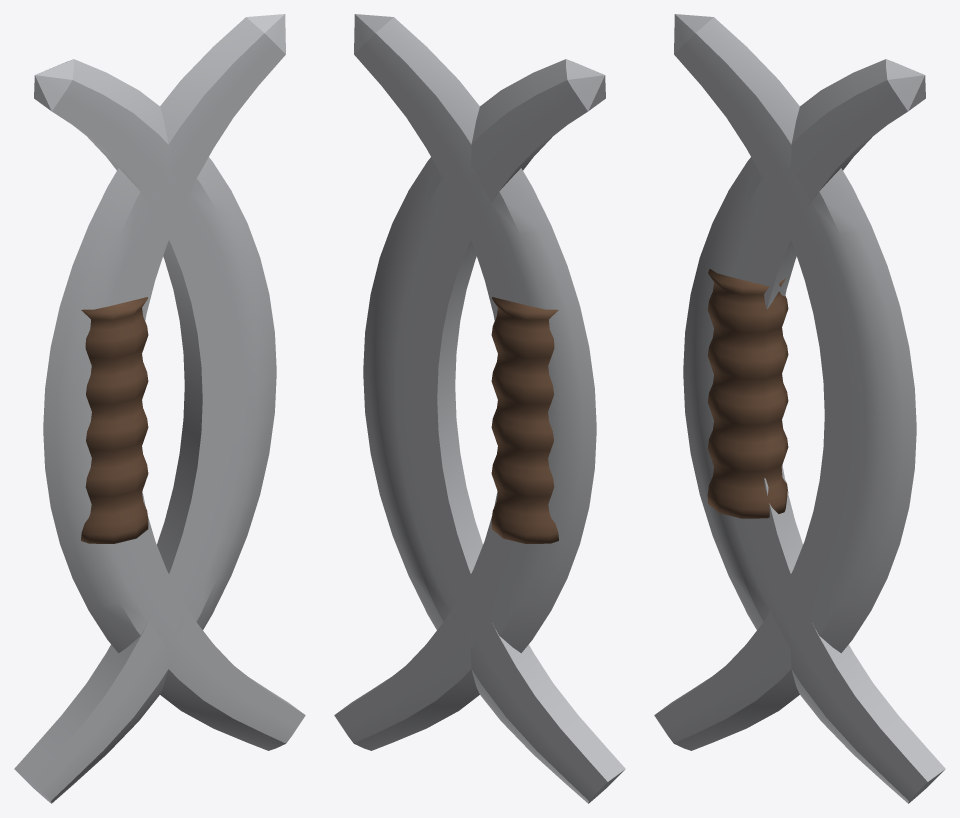
Rendered from deer-horn-knife.glb.
The picture shows the model from 3 angles, left to right: view 1: azimuth 30°, elevation 25°; view 2: azimuth 150°, elevation 25°; view 3: azimuth 330°, elevation 25°; orthographic projection.
Parts seen in each view (by area): view 1: deer-horn-knife; view 2: deer-horn-knife; view 3: deer-horn-knife.
Part boxes in pixels (bbox=[...]): deer-horn-knife: bbox=[14, 14, 305, 803]; deer-horn-knife: bbox=[334, 14, 625, 803]; deer-horn-knife: bbox=[654, 14, 945, 803].
Size of the model in its own units: 0.2109 by 0.5444 by 0.0462.
